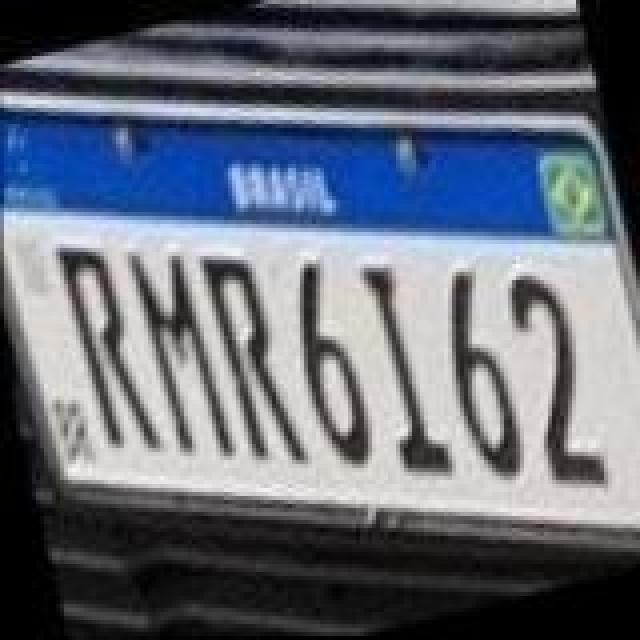2: (502, 270, 606, 502)
6: (426, 266, 530, 490), (278, 254, 382, 474)
I: (350, 258, 454, 494)
M: (126, 236, 238, 472)
R: (50, 232, 162, 468), (198, 244, 310, 480)
